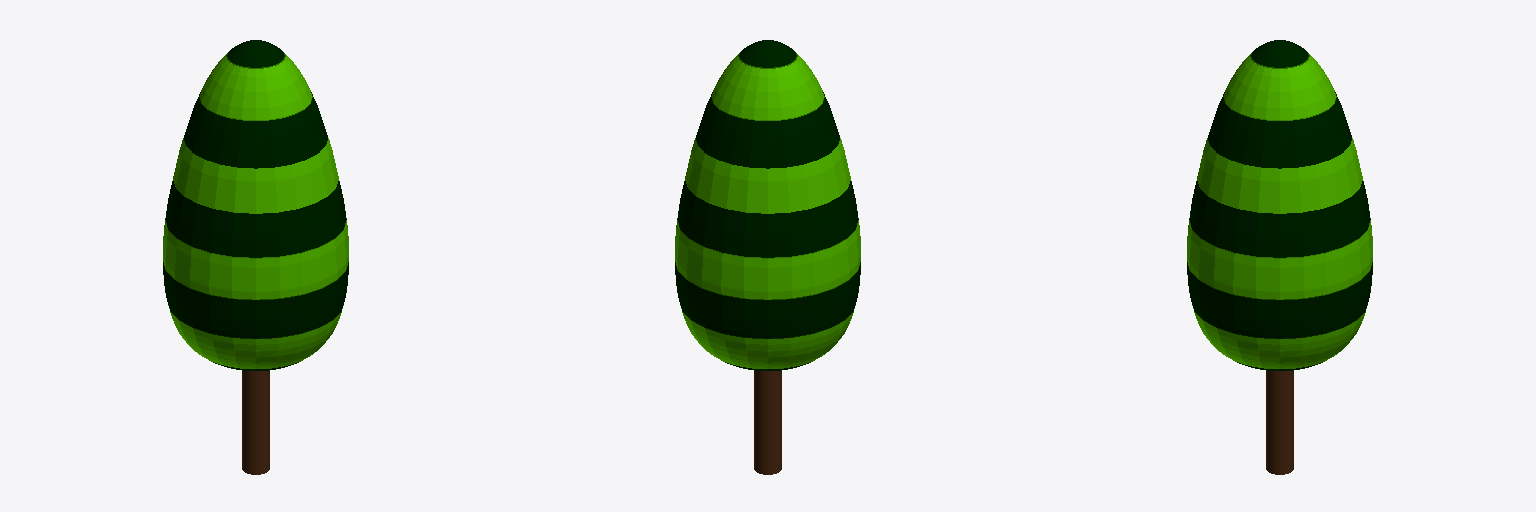
3 renders of one model, left to right at view 1: azimuth 30°, elevation 25°; view 2: azimuth 150°, elevation 25°; view 3: azimuth 270°, elevation 25°, orthographic.
Visible parts, largest first — view 1: Tree, Cylinder; view 2: Tree, Cylinder; view 3: Tree, Cylinder.
Boxes of the visible parts, <box> form: Tree: <box>163,40,348,370</box>; Cylinder: <box>242,371,269,474</box>; Tree: <box>675,40,860,370</box>; Cylinder: <box>754,371,781,474</box>; Tree: <box>1187,40,1372,370</box>; Cylinder: <box>1266,371,1293,474</box>.
Bounding box in the file's own units: 34.33 × 86.35 × 34.33.
2 materials, 2 textured.